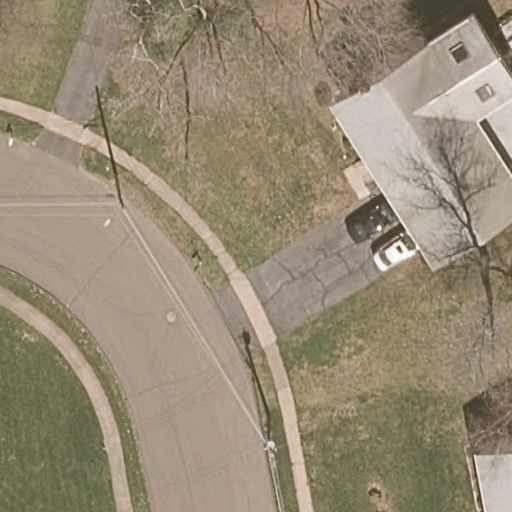DT: (106, 172, 125, 210), (262, 423, 278, 467)
